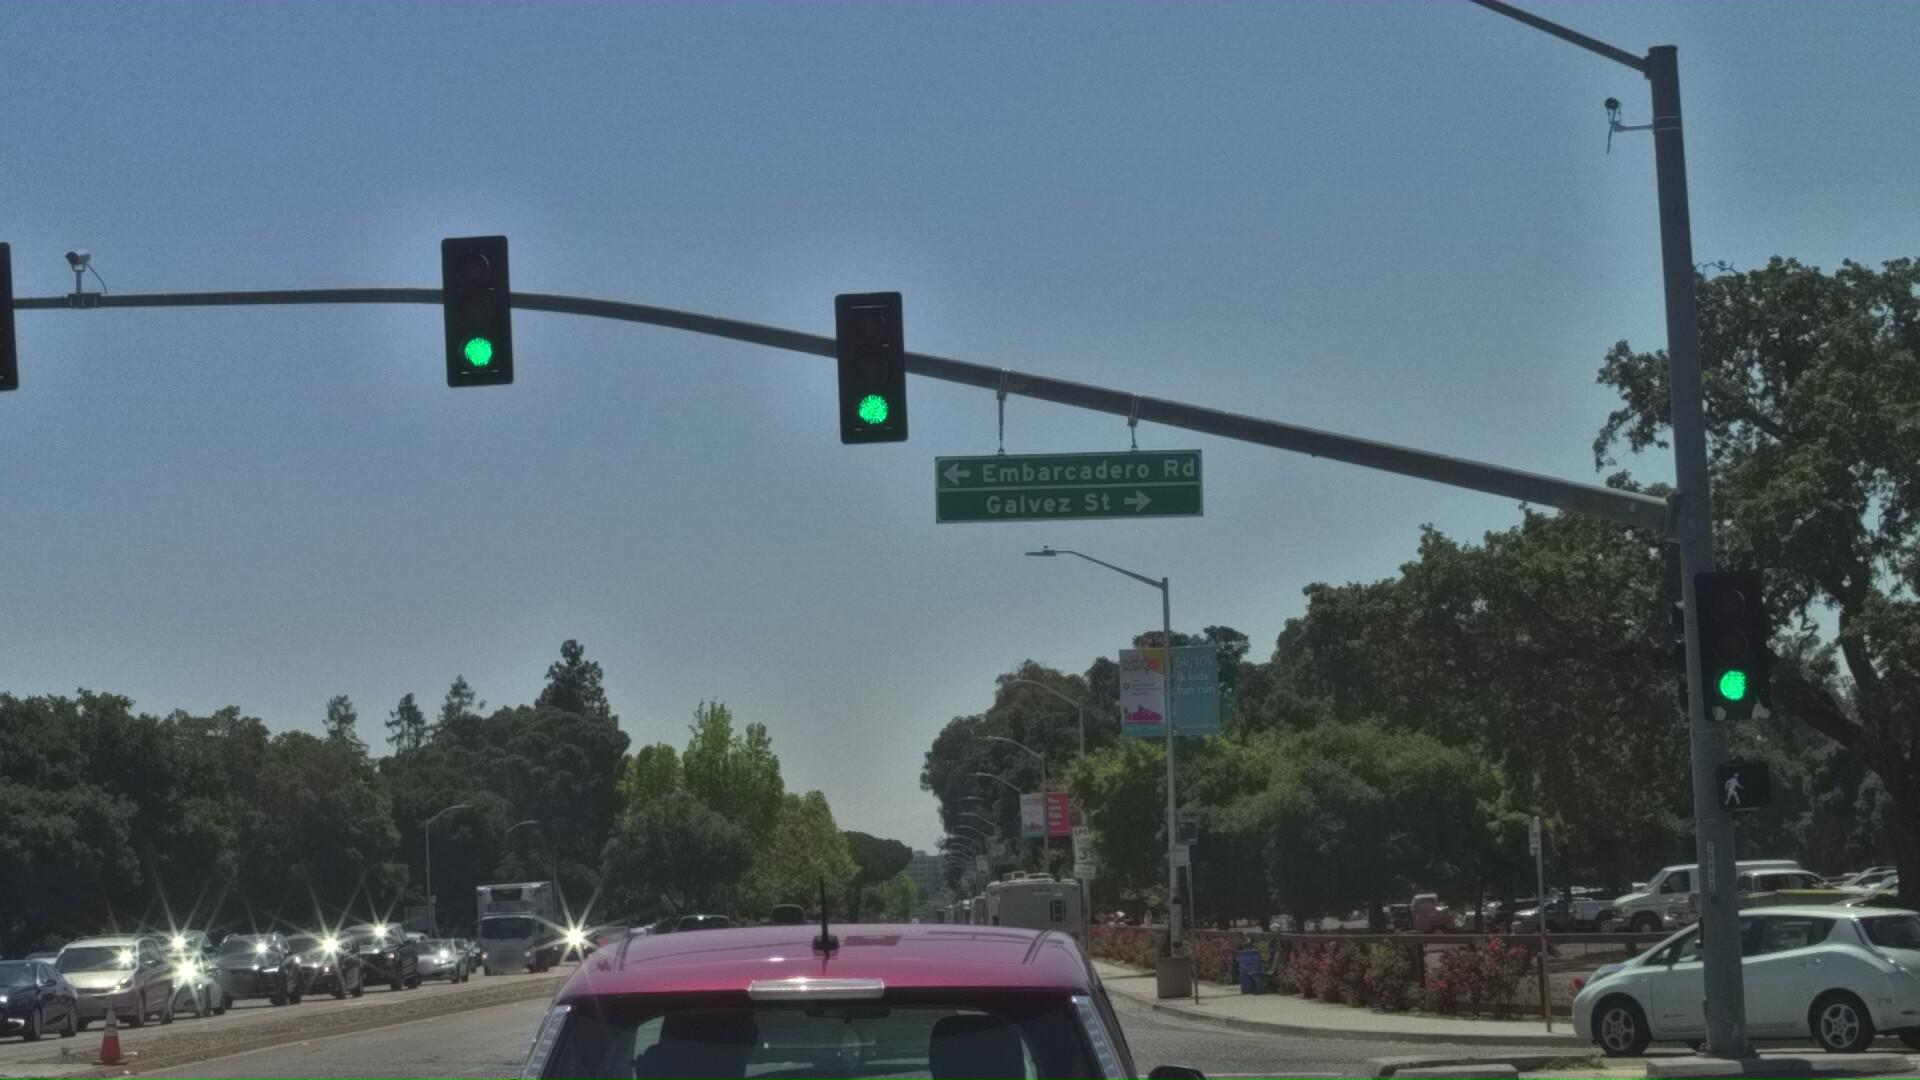car: (372, 880, 1305, 1080), (1532, 914, 1920, 1080), (692, 951, 1050, 1080), (40, 965, 196, 1069), (719, 953, 843, 1059), (121, 969, 248, 1048), (200, 949, 318, 1033), (0, 1001, 102, 1080), (0, 949, 49, 1073)
